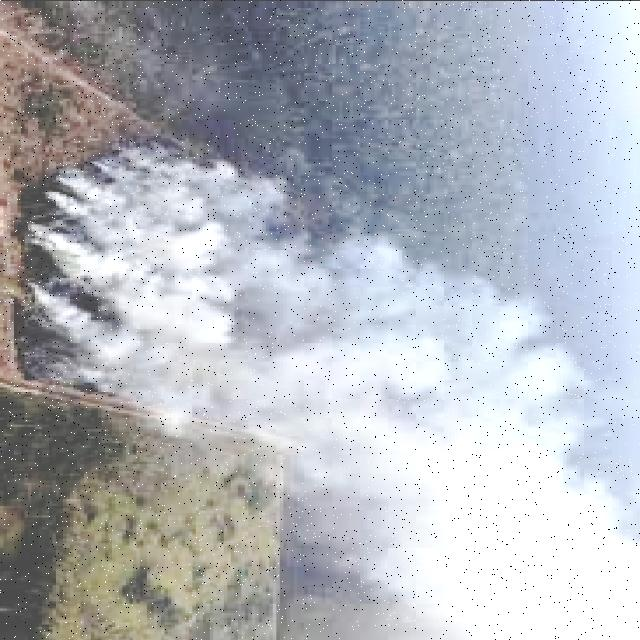asap: (306, 241, 640, 640), (30, 150, 298, 442)
